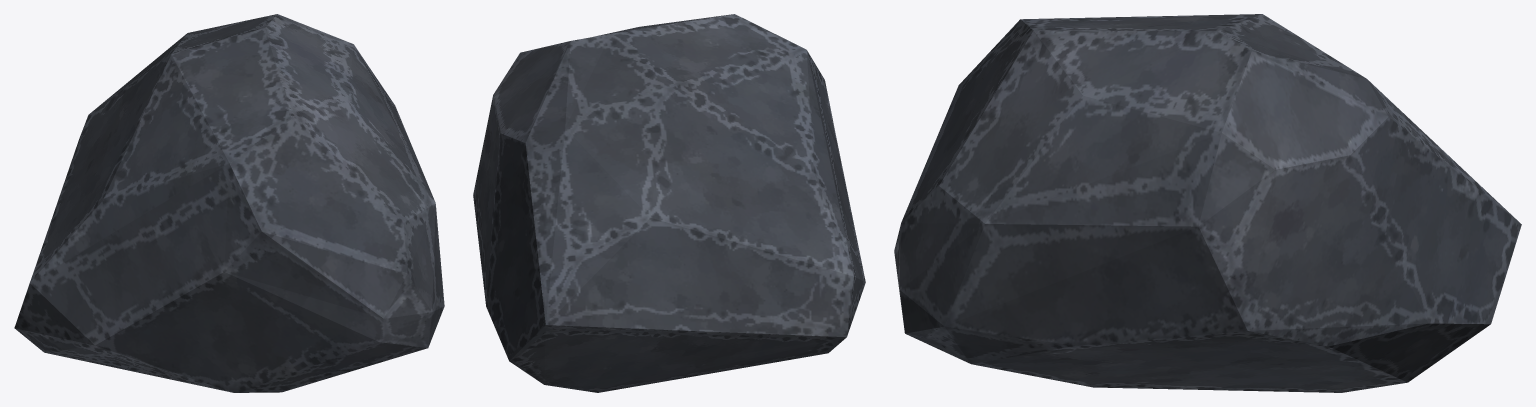
The model's file is rock_1.fbx.
3 views of the same model, side by side, from view 1: azimuth 30°, elevation 25°; view 2: azimuth 150°, elevation 25°; view 3: azimuth 270°, elevation 25° (orthographic). The views are drawn at different scales.
Parts seen in each view (by area): view 1: rock 1 low; view 2: rock 1 low; view 3: rock 1 low.
Boxes of the visible parts, x1=… form: rock 1 low: x1=14, y1=14, x2=444, y2=392; rock 1 low: x1=473, y1=14, x2=865, y2=392; rock 1 low: x1=894, y1=14, x2=1521, y2=392.
Bounding box in the file's own units: 59.1 × 48.19 × 71.4.
Materials: 1 (1 with a texture image).
